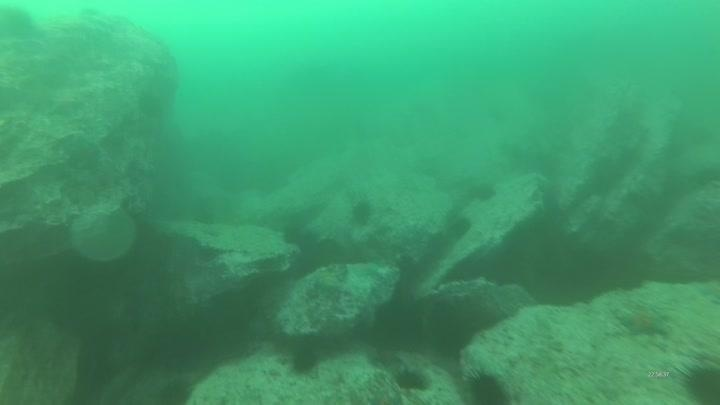echinus: (679, 359, 720, 404), (464, 369, 511, 405), (286, 343, 323, 377), (392, 365, 431, 395), (154, 377, 195, 405), (279, 221, 311, 250), (444, 212, 474, 242), (347, 197, 376, 228), (469, 180, 498, 205)
starfish: (615, 304, 672, 340), (45, 88, 86, 119), (372, 346, 403, 369)
